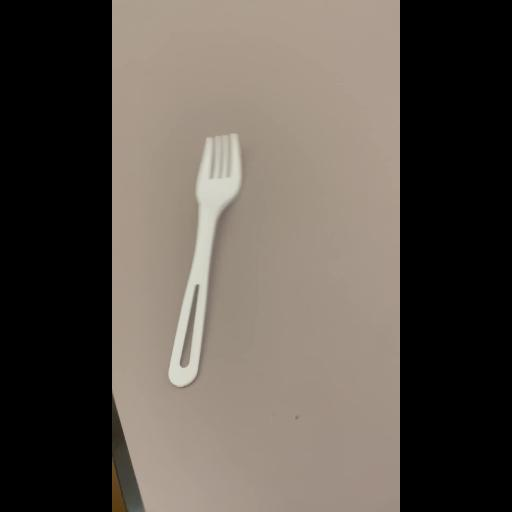utensil: (160, 129, 246, 393)
